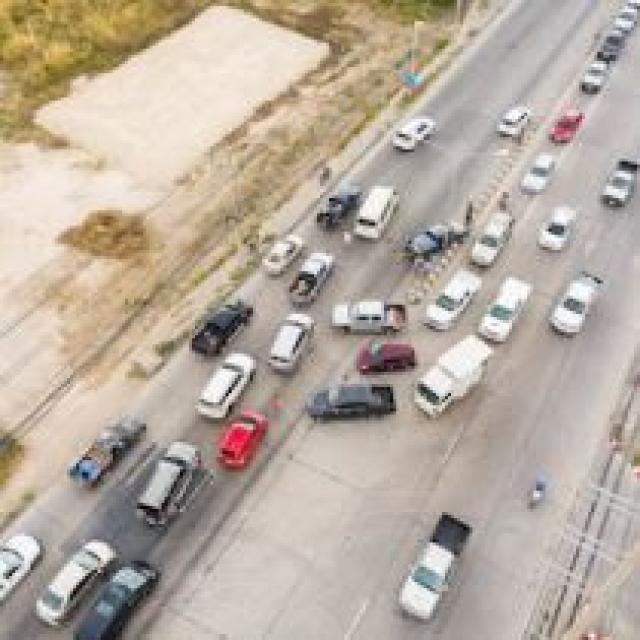traffic_incident: (152, 286, 424, 442), (396, 201, 469, 271)
